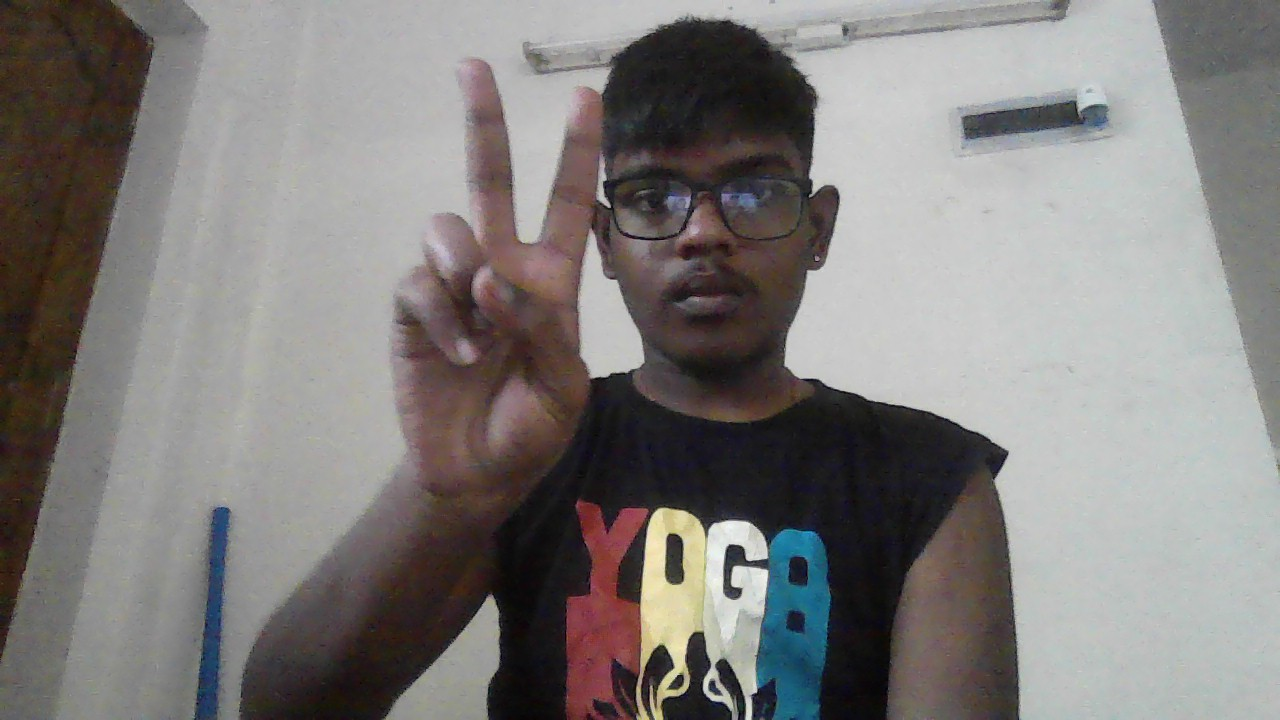V: (388, 57, 604, 521)
